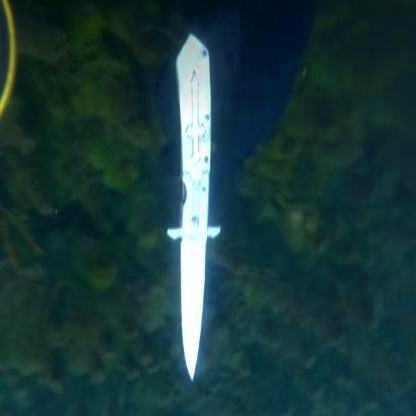misc: (155, 30, 228, 390)
